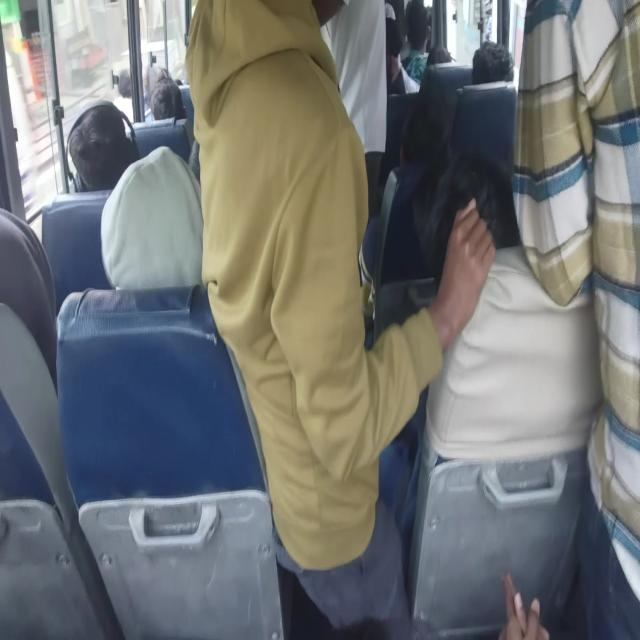person: (184, 0, 500, 635), (504, 0, 639, 638), (100, 144, 204, 291), (417, 148, 521, 287), (67, 100, 139, 192), (497, 572, 550, 638), (399, 0, 432, 86), (143, 64, 186, 120)
